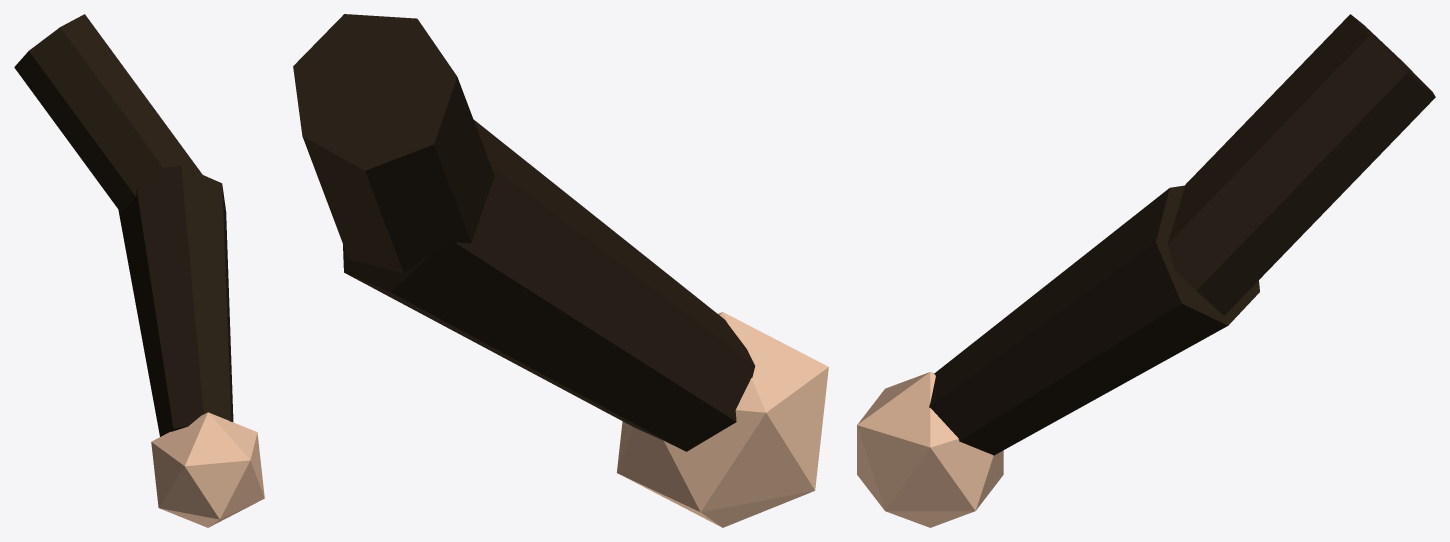
The model's file is arm_left.gltf.
3 renders of one model, left to right at view 1: azimuth 30°, elevation 25°; view 2: azimuth 150°, elevation 25°; view 3: azimuth 270°, elevation 25°, orthographic. The views are drawn at different scales.
Parts seen in each view (by area): view 1: Cylinder.003, Cylinder.004, Icosphere.001; view 2: Cylinder.003, Cylinder.004, Icosphere.001; view 3: Cylinder.003, Cylinder.004, Icosphere.001.
Boxes of the visible parts, <box> form: Cylinder.003: <box>118,165,233,436</box>; Cylinder.004: <box>14,14,202,212</box>; Icosphere.001: <box>151,412,264,527</box>; Cylinder.003: <box>343,120,755,451</box>; Cylinder.004: <box>293,14,494,273</box>; Icosphere.001: <box>617,312,828,527</box>; Cylinder.003: <box>929,185,1259,455</box>; Cylinder.004: <box>1167,14,1435,315</box>; Icosphere.001: <box>857,372,1003,527</box>.
Size of the model in its own units: 0.7396 by 1.69 by 1.71.
